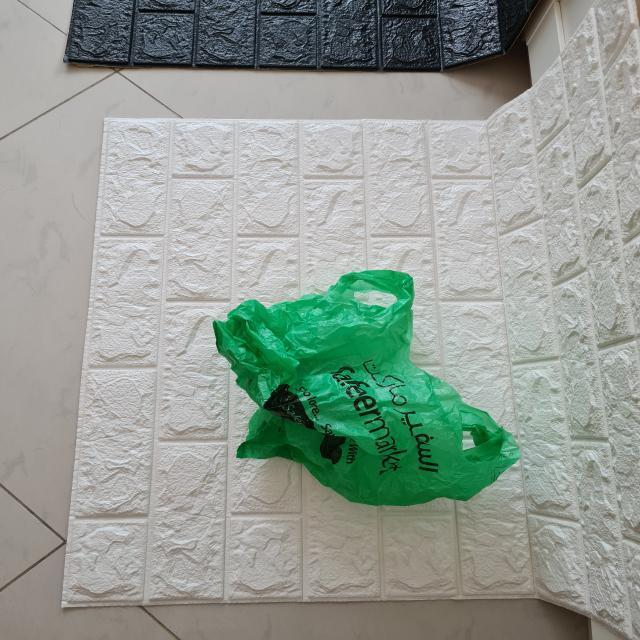Plastic_Bag: (204, 253, 532, 516)
